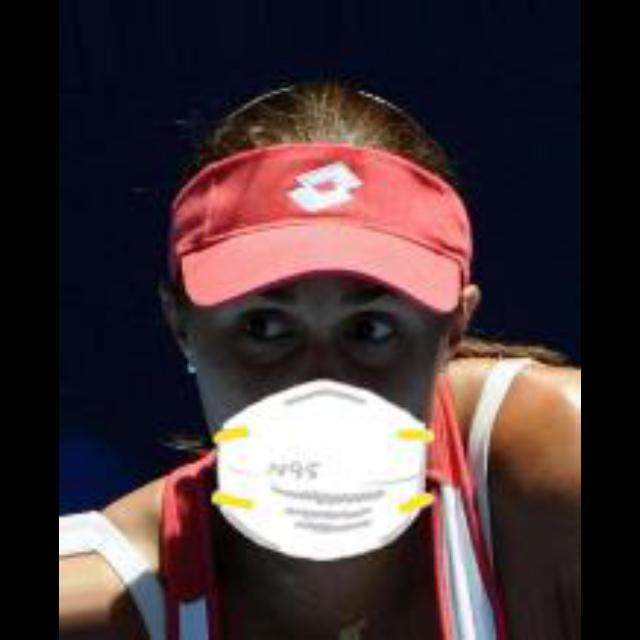suspicion: (163, 253, 477, 552)
